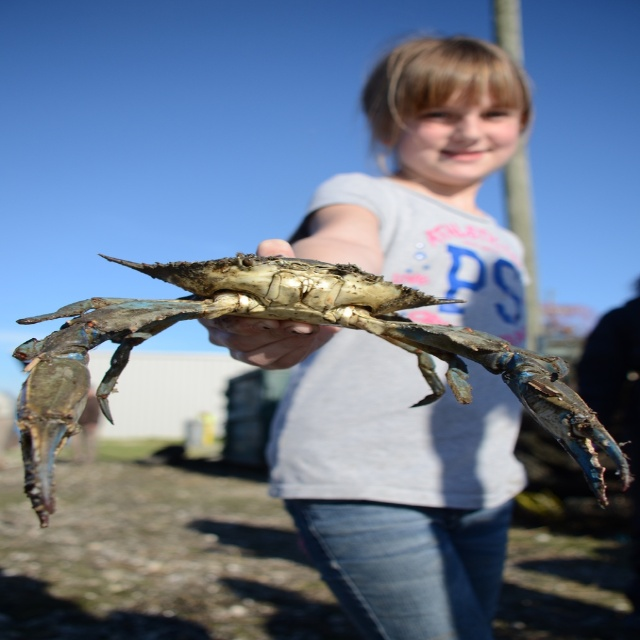Crab: (16, 250, 632, 522)
